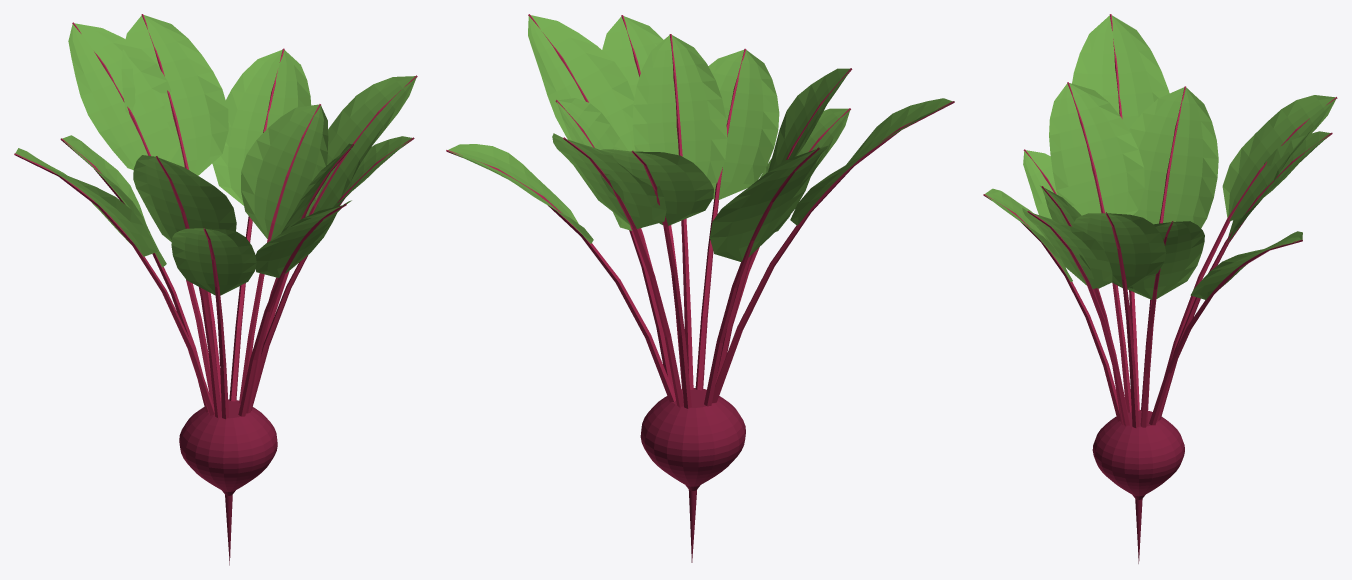
File: beetroot_harvest_v08.glb
3 views of the same model, side by side, from view 1: azimuth 30°, elevation 25°; view 2: azimuth 150°, elevation 25°; view 3: azimuth 270°, elevation 25° (orthographic). The views are drawn at different scales.
Parts seen in each view (by area): view 1: plant; view 2: plant; view 3: plant.
Boxes of the visible parts, left/top/right/bottom form: plant: left=14, top=14, right=417, bottom=565; plant: left=446, top=14, right=954, bottom=562; plant: left=983, top=14, right=1337, bottom=563.
Size of the model in its own units: 0.3682 by 0.4209 by 0.302.
Materials: 1 (1 with a texture image).
